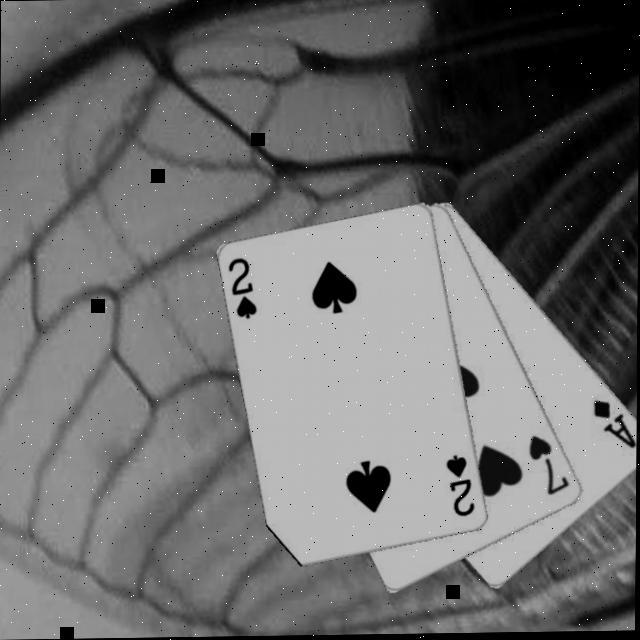2S: (445, 454, 479, 522), (227, 256, 261, 324)
7H: (527, 433, 575, 502)
AD: (591, 399, 637, 456)
